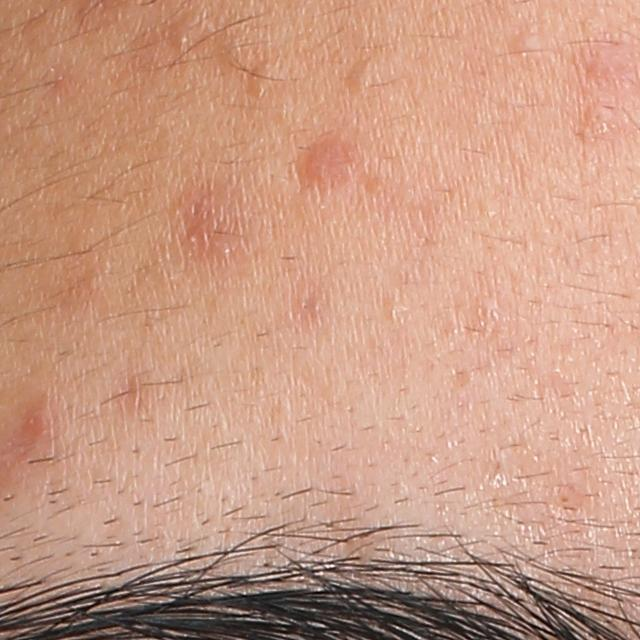comedo: (511, 27, 558, 66), (343, 57, 388, 93), (161, 17, 204, 54), (583, 106, 607, 129)
